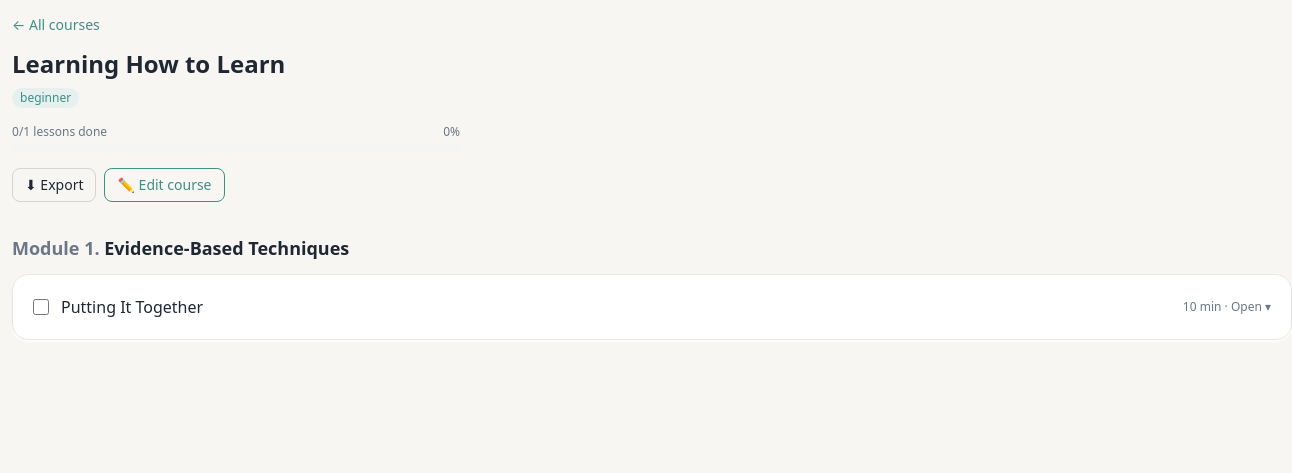
Test: CourseDetail — notebooklm cross-link (M4) › renders a linked notebook as an Open-notebook card with counts
This screenshot has width=1292, height=473.
Click the button "Putting It Together 10 min · Open ▾".
click(132, 307)  # box [61,295,1271,319]
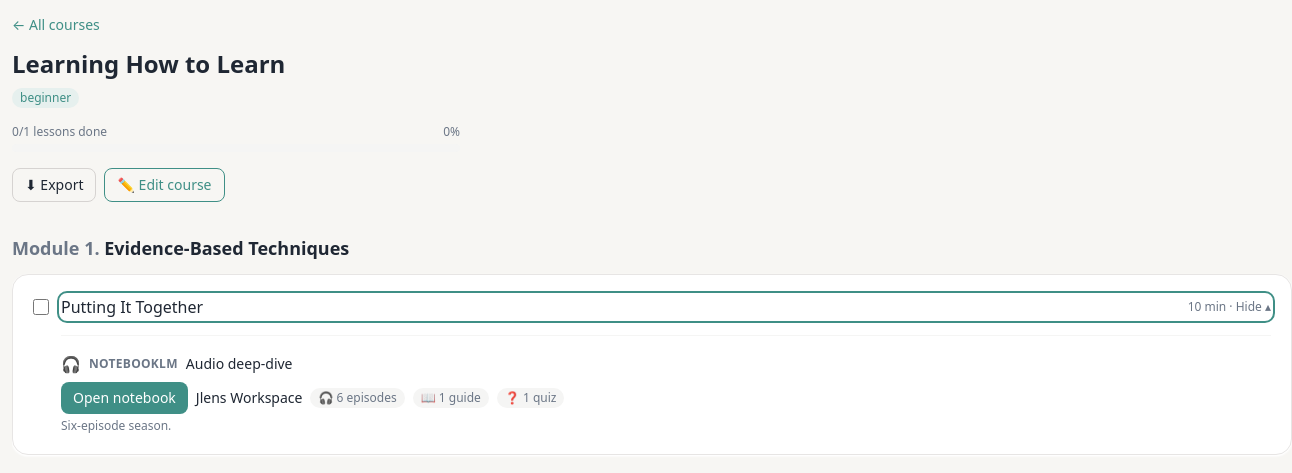
expect the text "Jlens Workspace" is shown: met, box [196,388,302,408]
expect the text "🎧 6 episodes" is shown: met, box [310,388,405,408]
expect the text "📖 1 guide" is shown: met, box [413,388,489,408]
